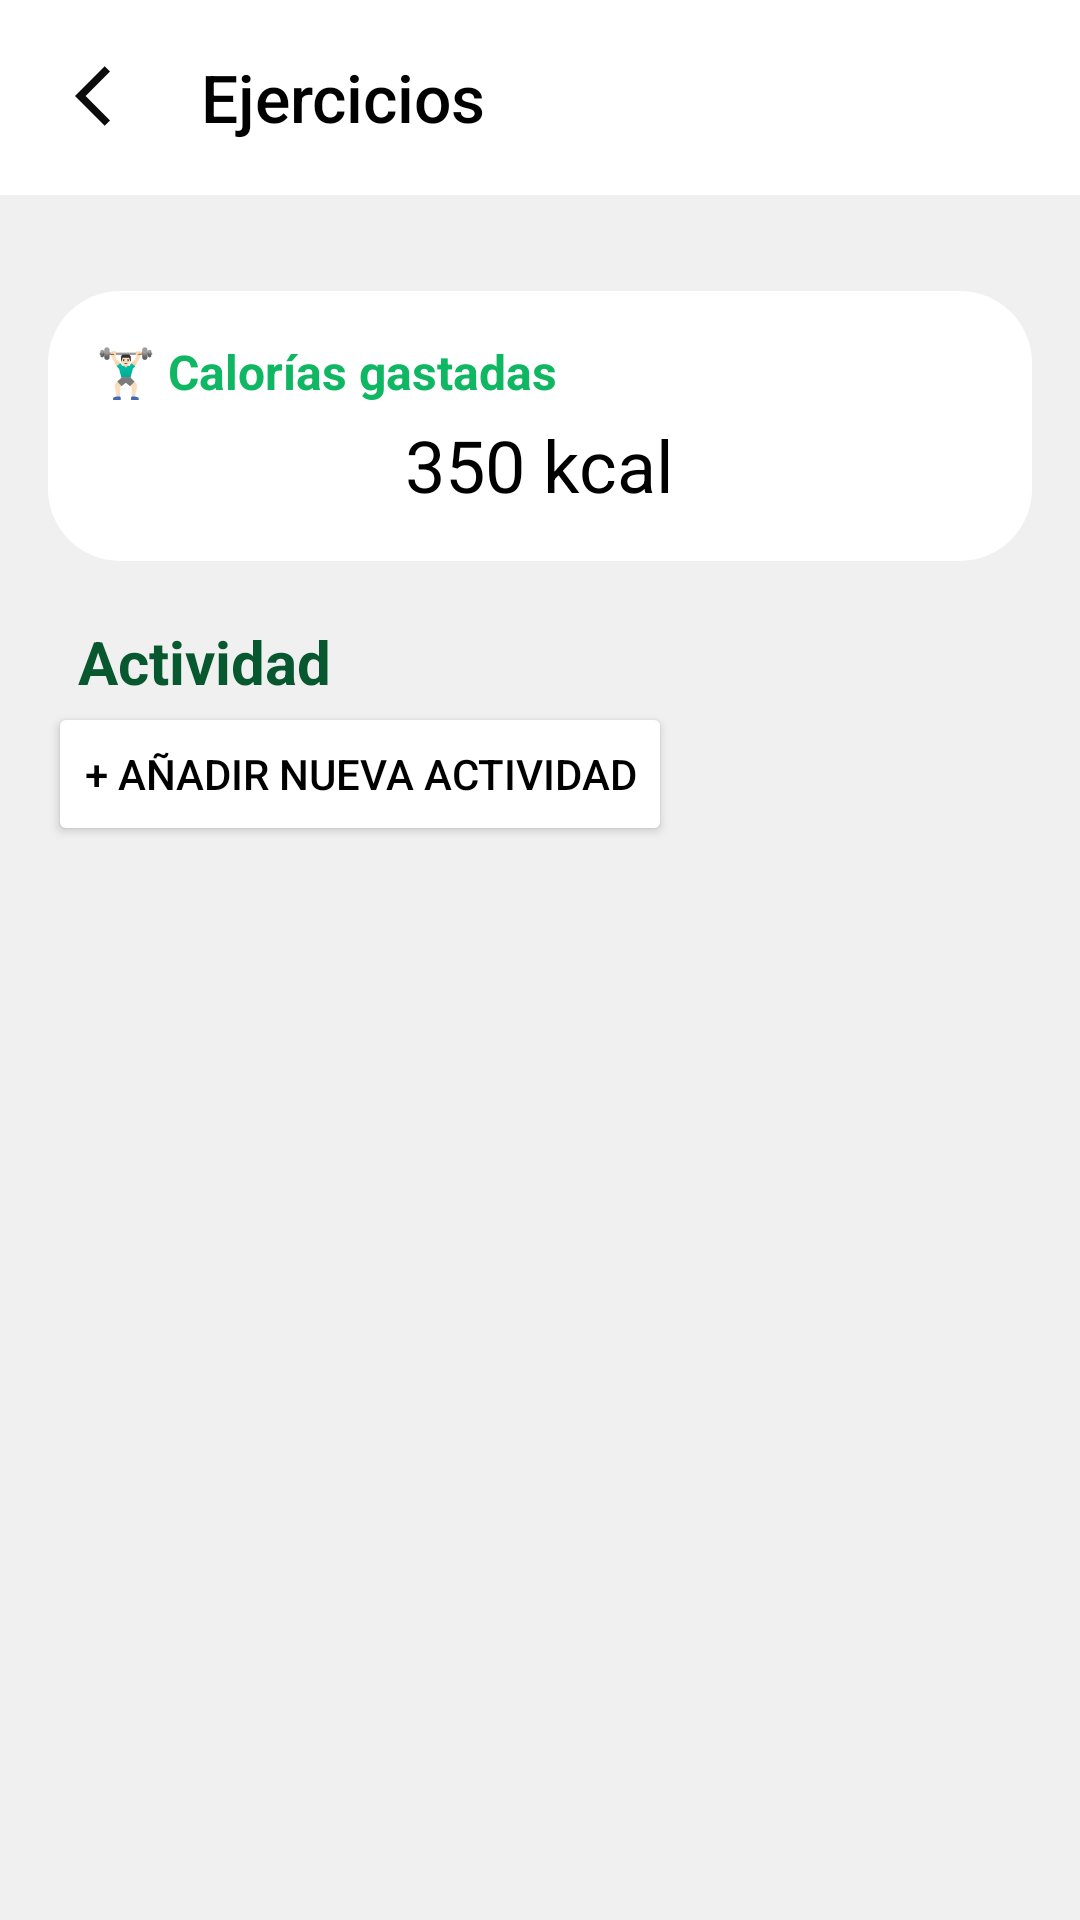

Screen size 1080x1920. Icon name, then its box in pixels as (x1, y1, x2, y2):
Back: (75, 66, 110, 126)
